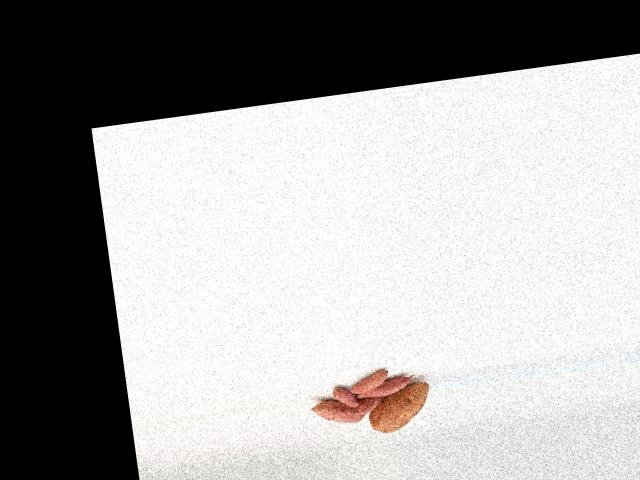sweet_potato: (308, 396, 364, 428)
